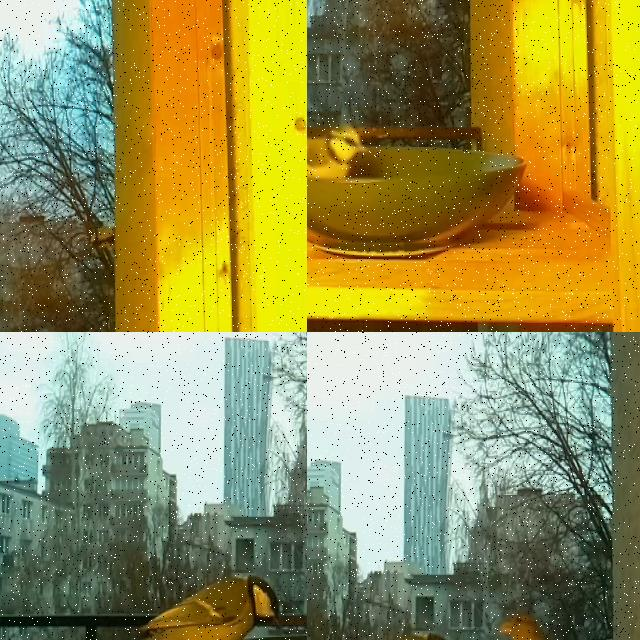Bogatka: (68, 571, 286, 640)
Modraszka: (307, 119, 371, 183)
Wrobel: (497, 609, 573, 640)
